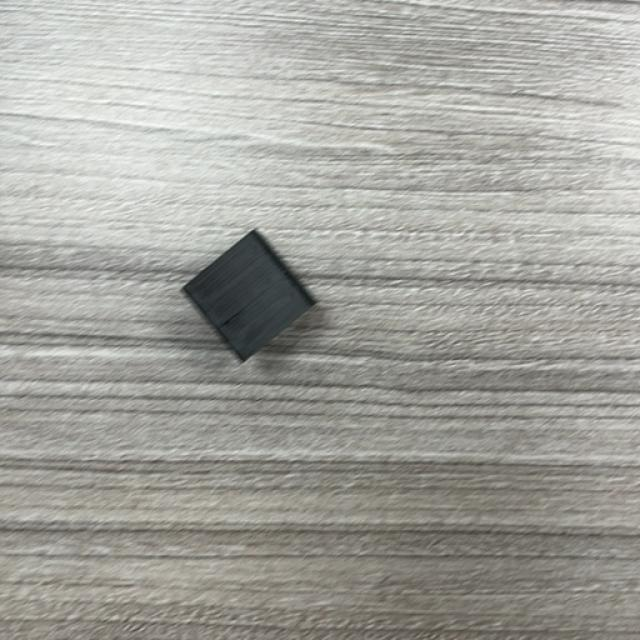Negro: (181, 230, 316, 364)
